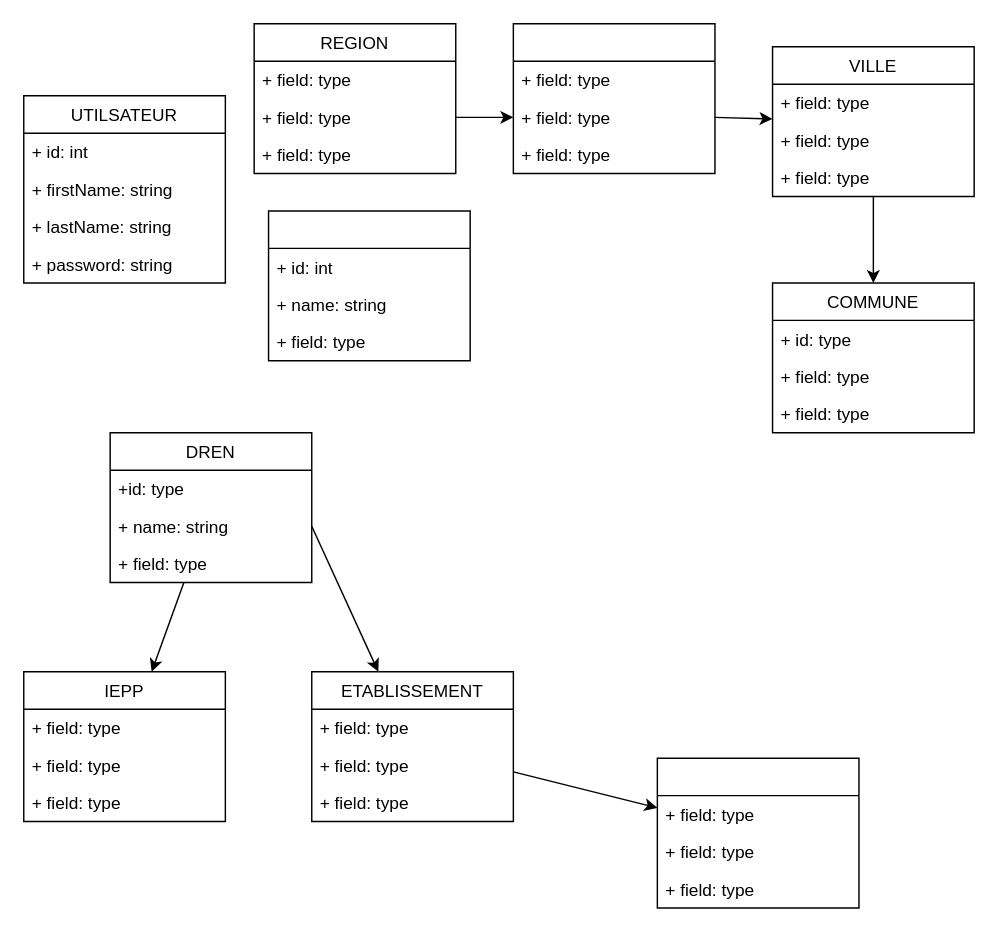
Image size: 998x932. Some labels were removed from this diagram. The box of each missing label's shape, as (x1, y1, x2, y2) in pixels:
COGES: (656, 757, 859, 908)
DEPARTEMENT: (512, 22, 715, 174)
ROLE: (267, 210, 470, 361)
